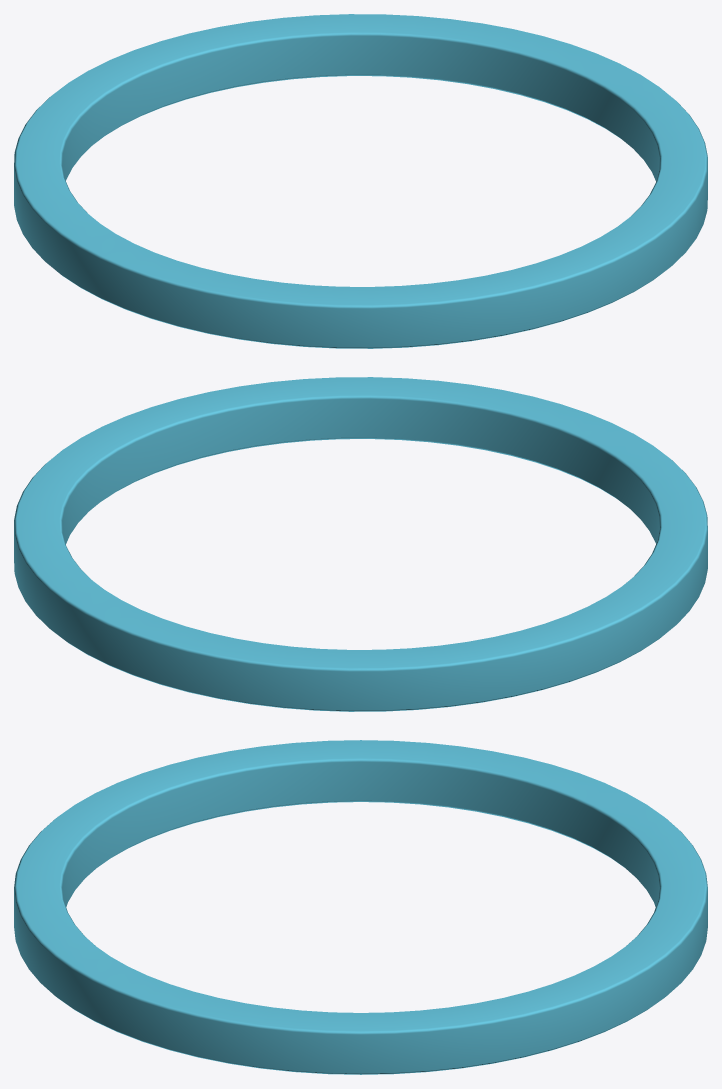
3 views of the same model, one above another, from view 1: azimuth 30°, elevation 25°; view 2: azimuth 150°, elevation 25°; view 3: azimuth 270°, elevation 25° (orthographic).
Parts seen in each view (by area): view 1: seal_body; view 2: seal_body; view 3: seal_body.
Part boxes in pixels (x1,y1,x2,y2): seal_body: (14,14,707,348); seal_body: (14,377,707,711); seal_body: (14,740,707,1074).
Size of the model in its own units: 0.1365 by 0.00952 by 0.1365.
